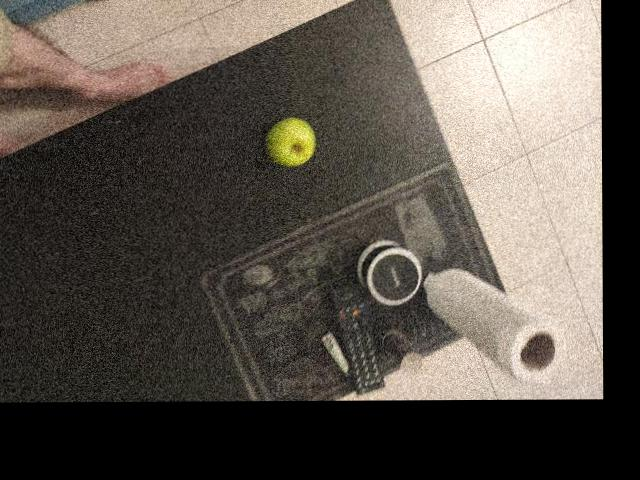apple: (353, 52, 406, 116)
